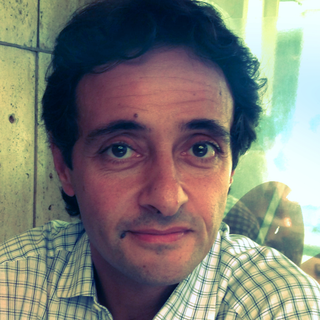eye: (171, 135, 227, 169), (94, 138, 145, 165)
